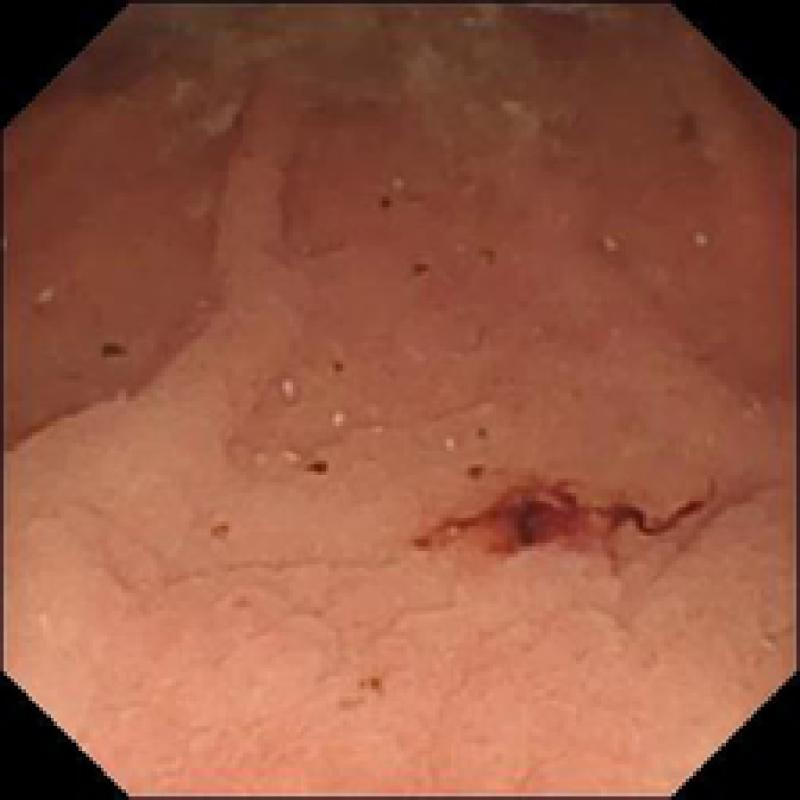bleeding: (411, 478, 718, 572)
